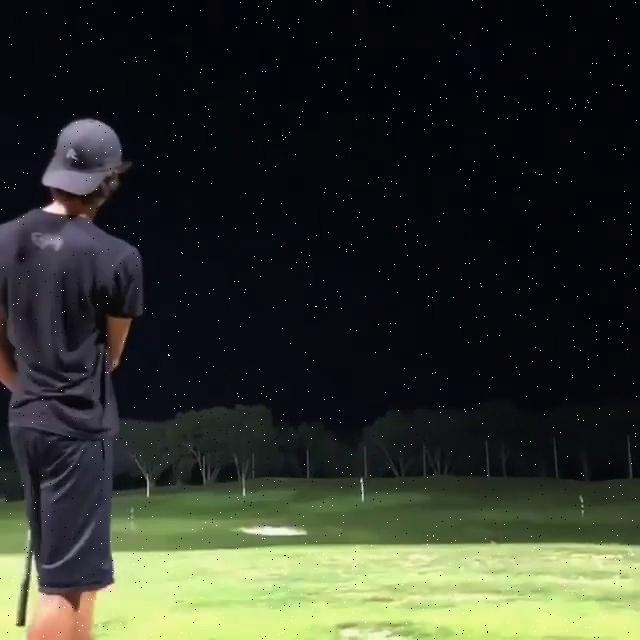golf club-handle: (15, 523, 34, 626)
